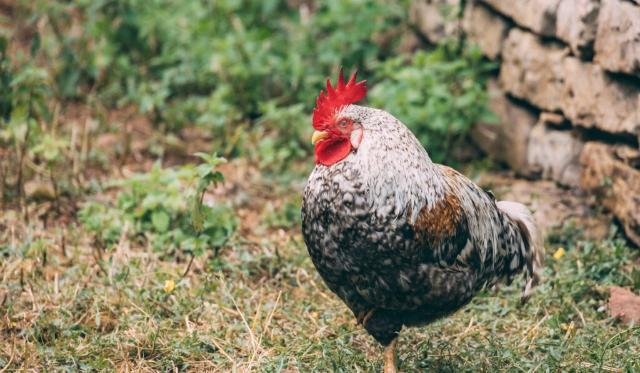Chicken: (302, 66, 538, 371)
